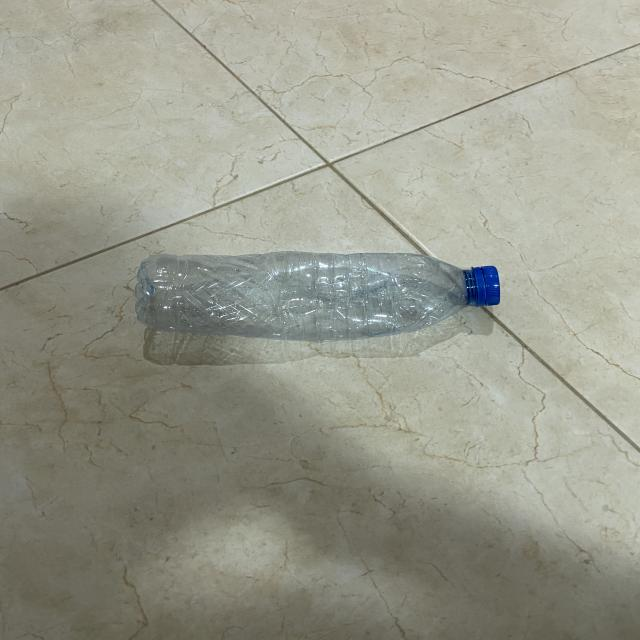plastic bottle: (126, 246, 505, 342)
